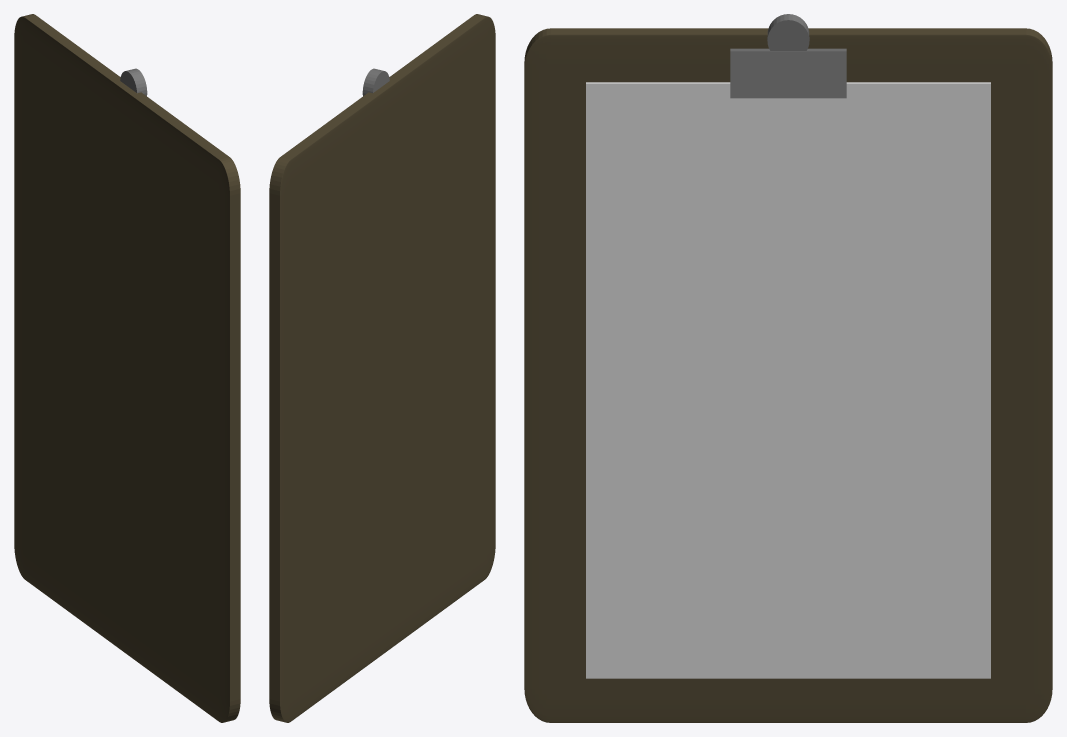
File: clipboardER.fbx
3 views of the same model, side by side, from view 1: azimuth 30°, elevation 25°; view 2: azimuth 150°, elevation 25°; view 3: azimuth 270°, elevation 25° (orthographic). The views are drawn at different scales.
Parts seen in each view (by area): view 1: Cube, Cylinder; view 2: Cube, Cylinder; view 3: Cube.002, Cube, Cube.001, Cylinder.
Part boxes in pixels (x1,y1,x2,y2): Cube: (14, 14, 240, 722); Cylinder: (120, 68, 147, 95); Cube: (269, 14, 495, 722); Cylinder: (362, 68, 389, 95); Cube.002: (586, 82, 990, 678); Cube: (524, 28, 1052, 722); Cube.001: (730, 48, 846, 98); Cylinder: (767, 14, 809, 50).
Bounding box in the file's own units: 8.32 × 205 × 139.
